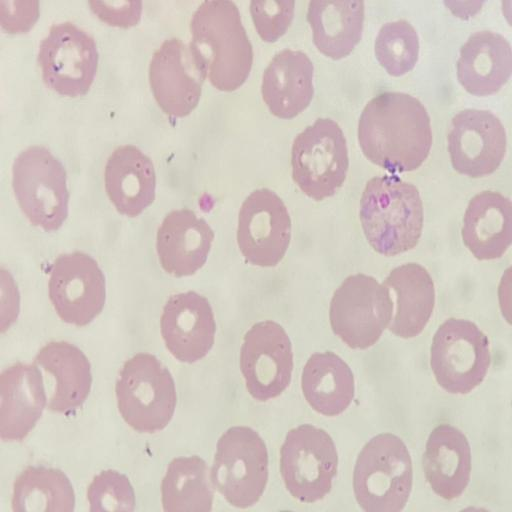Infected: (360, 172, 422, 251)
Uninfected: (358, 90, 434, 170), (190, 1, 252, 89), (11, 146, 69, 230), (289, 118, 348, 198), (329, 274, 392, 348), (210, 426, 268, 506), (114, 354, 175, 430), (352, 433, 413, 509), (428, 318, 489, 393), (279, 424, 338, 501), (46, 252, 107, 326), (149, 38, 206, 117), (38, 23, 97, 97), (239, 320, 294, 399), (445, 108, 506, 178), (236, 188, 292, 264), (37, 342, 93, 416), (159, 291, 216, 363), (381, 263, 433, 338), (103, 145, 157, 215), (455, 29, 512, 95), (157, 210, 213, 276), (423, 424, 471, 499), (460, 190, 512, 259), (261, 50, 314, 117), (300, 352, 353, 415), (0, 364, 45, 437), (308, 1, 364, 59), (161, 458, 214, 510), (373, 21, 420, 75)
